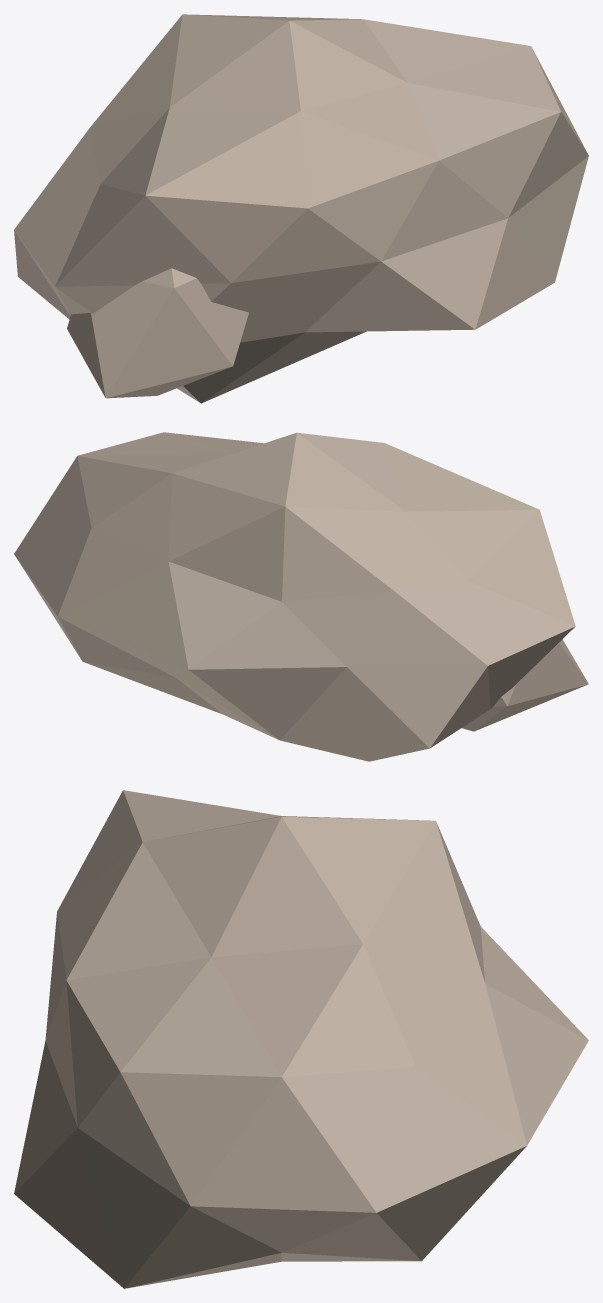
File: Rock_A.fbx
3 renders of one model, top to bottom at view 1: azimuth 30°, elevation 25°; view 2: azimuth 150°, elevation 25°; view 3: azimuth 270°, elevation 25°, orthographic. The views are drawn at different scales.
Parts seen in each view (by area): view 1: Rock_A_Mesh; view 2: Rock_A_Mesh; view 3: Rock_A_Mesh.
Part boxes in pixels (x1=…): Rock_A_Mesh: x1=14, y1=14, x2=588, y2=403; Rock_A_Mesh: x1=14, y1=432, x2=588, y2=761; Rock_A_Mesh: x1=14, y1=790, x2=588, y2=1288.
Bounding box in the file's own units: 6.01 × 4.26 × 3.42.
